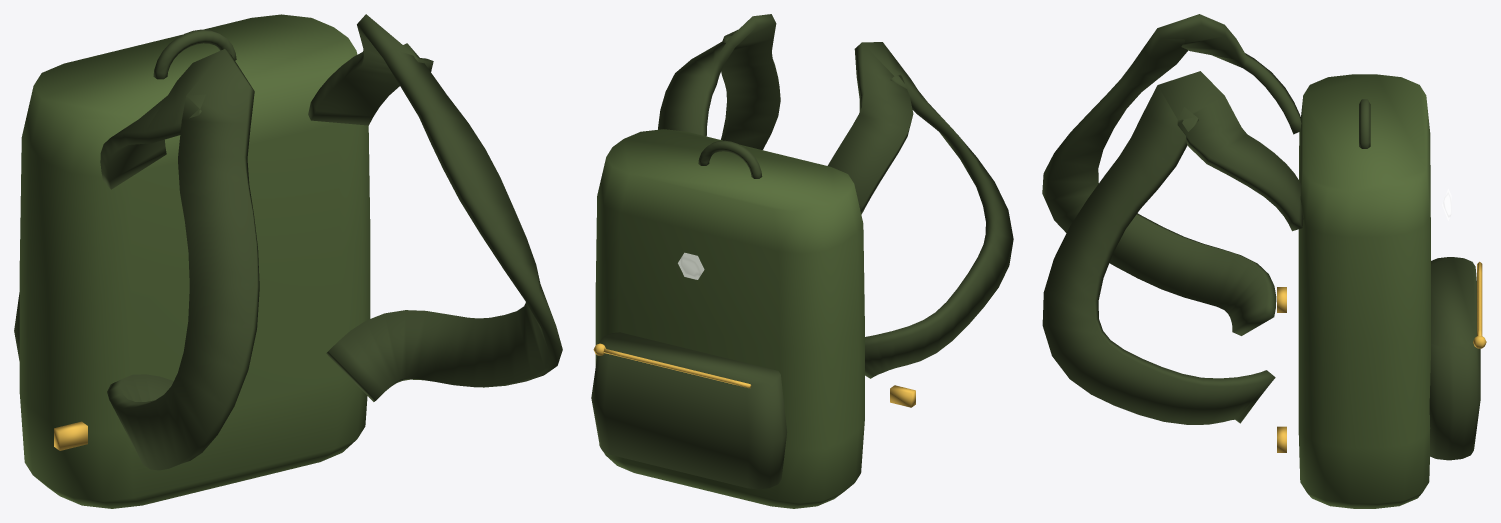
File: mini_backpack.glb
3 renders of one model, left to right at view 1: azimuth 30°, elevation 25°; view 2: azimuth 150°, elevation 25°; view 3: azimuth 270°, elevation 25°, orthographic. The views are drawn at different scales.
Visible parts, largest first — view 1: mini_backpack; view 2: mini_backpack; view 3: mini_backpack.
Part boxes in pixels (x1,y1,x2,y2): mini_backpack: (14,14,562,508); mini_backpack: (591,14,1013,508); mini_backpack: (1042,14,1486,508).
Size of the model in its own units: 0.216 by 0.2734 by 0.2686.
